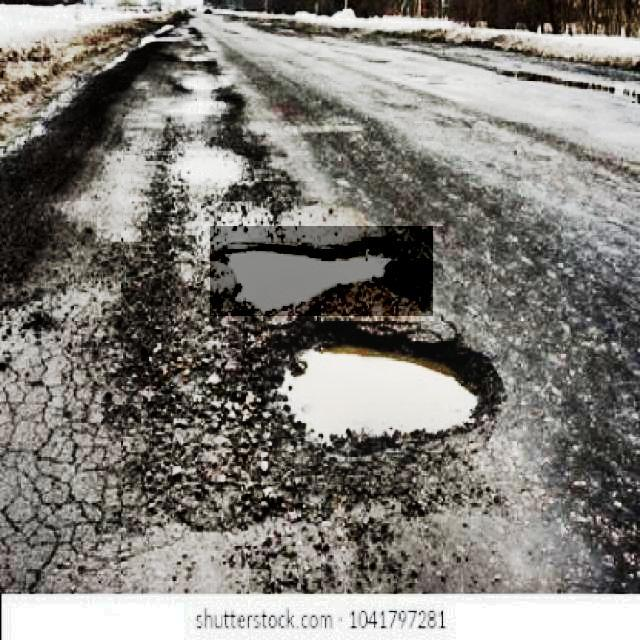pothole: (265, 308, 524, 472), (210, 226, 433, 316)
